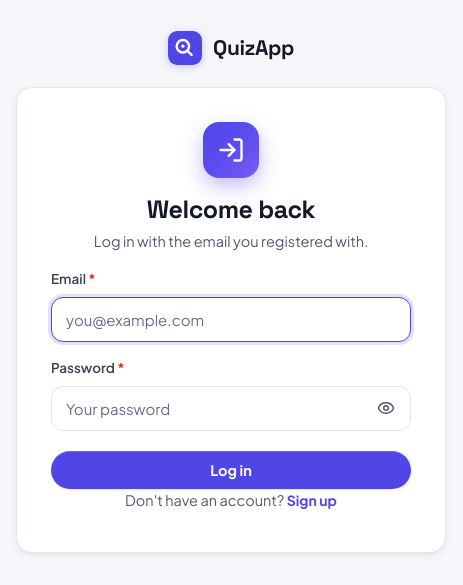
Test: LoginPage › requires a password
The image size is (463, 585).
In the field labelled "Email *": (231, 319) [51,297,411,342], type "a@b.com"
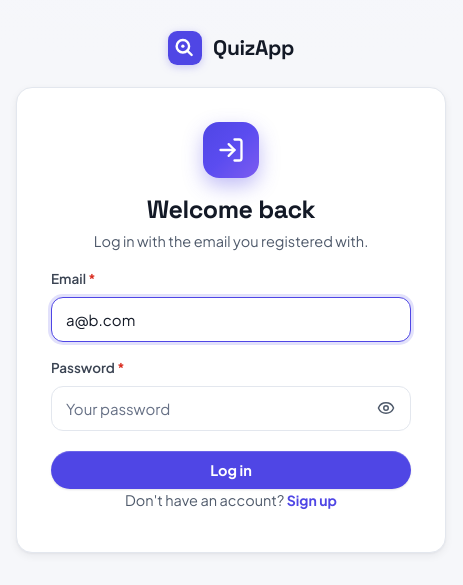
Submit the form
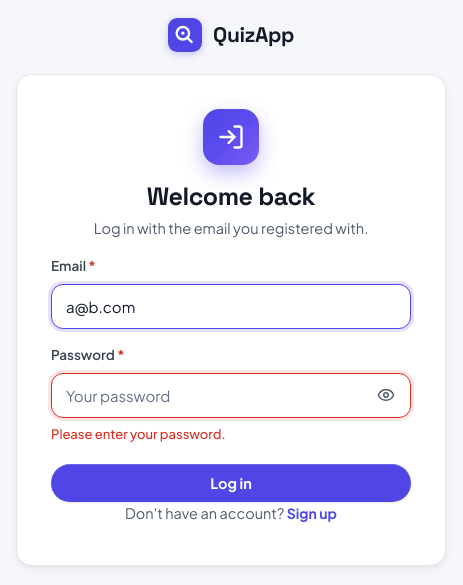
Check: the text "Please enter your password." is shown, box [51,426,226,442]
